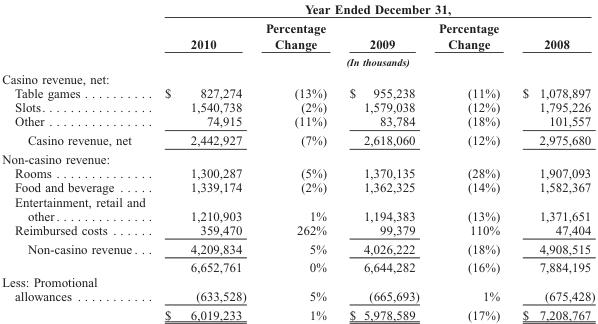table: (1, 1, 594, 321)
table column: (1, 1, 154, 321), (154, 1, 255, 321), (337, 1, 428, 321), (510, 1, 594, 321), (255, 1, 337, 321), (428, 1, 510, 321)
table column header: (1, 1, 594, 69)
table projected row header: (1, 69, 594, 85), (1, 149, 594, 165)
table row: (1, 18, 594, 53), (1, 274, 594, 304), (1, 194, 594, 222), (1, 130, 594, 149), (1, 239, 594, 257), (1, 1, 594, 18), (1, 222, 594, 239), (1, 257, 594, 274), (1, 304, 594, 321), (1, 53, 594, 69), (1, 69, 594, 85), (1, 114, 594, 130), (1, 149, 594, 165), (1, 99, 594, 114), (1, 179, 594, 194), (1, 85, 594, 99), (1, 165, 594, 179)
table spanning cell: (154, 1, 594, 18), (154, 53, 594, 69)
